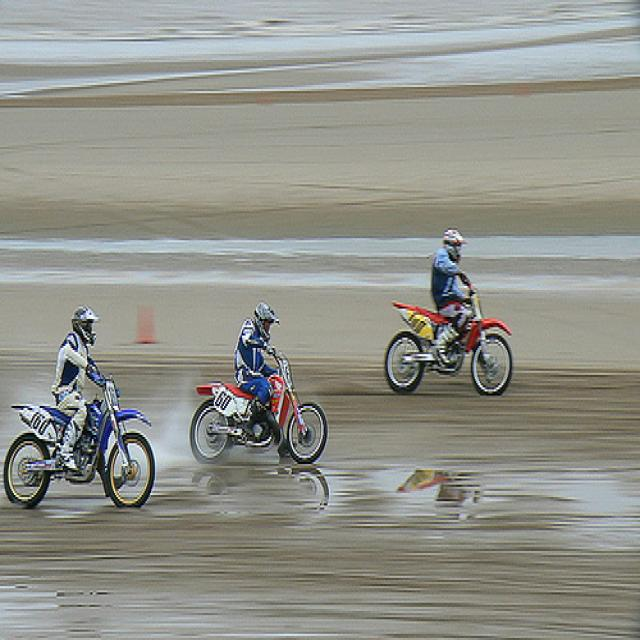motor: (3, 379, 156, 509), (382, 280, 514, 400), (192, 355, 328, 471)
